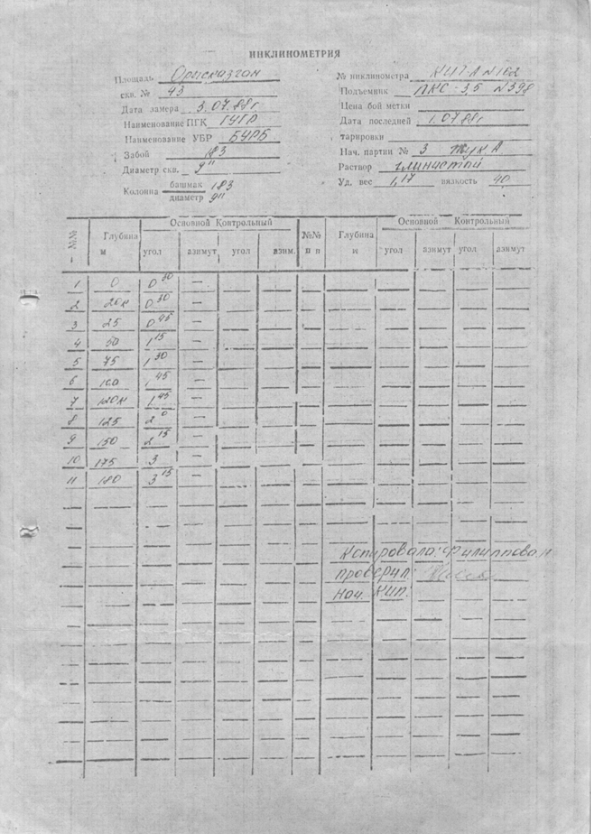Borderless: (62, 210, 537, 763)
